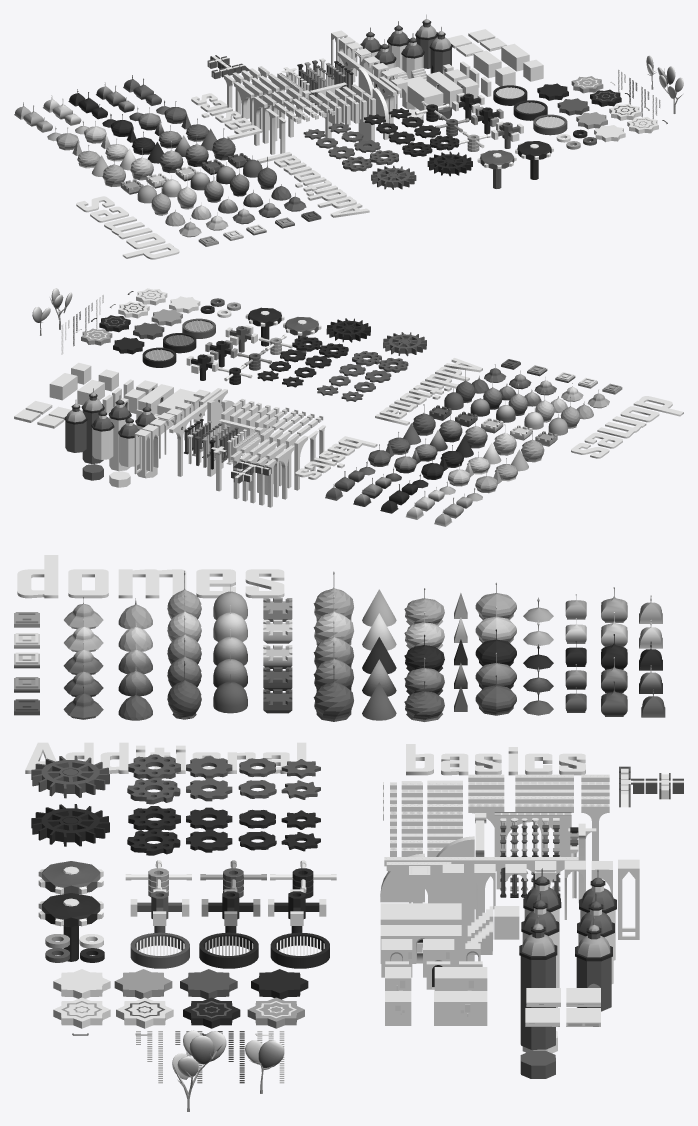
The model's file is assets fbx.fbx.
3 renders of one model, top to bottom at view 1: azimuth 30°, elevation 25°; view 2: azimuth 150°, elevation 25°; view 3: azimuth 270°, elevation 25°, orthographic. The views are drawn at different scales.
Visible parts, largest first — view 1: Text, Text.001, Text.003, Cube.005, gear 11, gear, pitch 1, pitch 5, Circle.121, Circle.123, Circle.002, Cube.025 (+25 smaller); view 2: Text, Text.001, Text.003, Circle.124, Circle.122, Circle.002, Circle.046, Circle.123, gear, Circle.121, gear 11, pitch 5 (+27 smaller); view 3: Text, Text.003, Text.001, Circle.123, gear, gear 11, Circle.026, Circle.124, pitch 5, Circle.002, Cube.005, Cube.113 (+52 smaller).
Boxes of the visible parts, x1=… form: Text: x1=76, y1=196, x2=179, y2=259; Text.001: x1=257, y1=152, x2=369, y2=217; Text.003: x1=191, y1=93, x2=262, y2=140; Cube.005: x1=402, y1=76, x2=443, y2=113; gear 11: x1=427, y1=151, x2=472, y2=176; gear: x1=371, y1=165, x2=416, y2=189; pitch 1: x1=477, y1=150, x2=516, y2=188; pitch 5: x1=515, y1=141, x2=553, y2=179; Circle.121: x1=401, y1=33, x2=424, y2=109; Circle.123: x1=429, y1=27, x2=452, y2=73; Circle.002: x1=337, y1=51, x2=396, y2=139; Cube.025: x1=426, y1=71, x2=462, y2=107; Text: x1=571, y1=396, x2=683, y2=458; Text.001: x1=375, y1=358, x2=482, y2=425; Text.003: x1=295, y1=436, x2=377, y2=479; Circle.124: x1=64, y1=399, x2=87, y2=452; Circle.122: x1=91, y1=406, x2=114, y2=459; Circle.002: x1=169, y1=389, x2=227, y2=476; Circle.046: x1=118, y1=413, x2=139, y2=467; Circle.123: x1=81, y1=388, x2=104, y2=463; gear: x1=383, y1=332, x2=426, y2=356; Circle.121: x1=108, y1=395, x2=131, y2=471; gear 11: x1=326, y1=318, x2=370, y2=342; pitch 5: x1=245, y1=307, x2=284, y2=346; Text: x1=17, y1=555, x2=284, y2=598; Text.003: x1=406, y1=744, x2=585, y2=775; Text.001: x1=25, y1=742, x2=306, y2=773; Circle.123: x1=519, y1=915, x2=557, y2=1049; gear: x1=31, y1=755, x2=109, y2=798; gear 11: x1=31, y1=804, x2=109, y2=846; Circle.026: x1=430, y1=836, x2=474, y2=966; Circle.124: x1=575, y1=917, x2=612, y2=1011; pitch 5: x1=38, y1=893, x2=103, y2=961; Circle.002: x1=384, y1=857, x2=578, y2=919; Cube.005: x1=380, y1=903, x2=461, y2=947; Cube.113: x1=434, y1=991, x2=487, y2=1025.
Size of the model in its own units: 6954 by 1125 by 3864.
